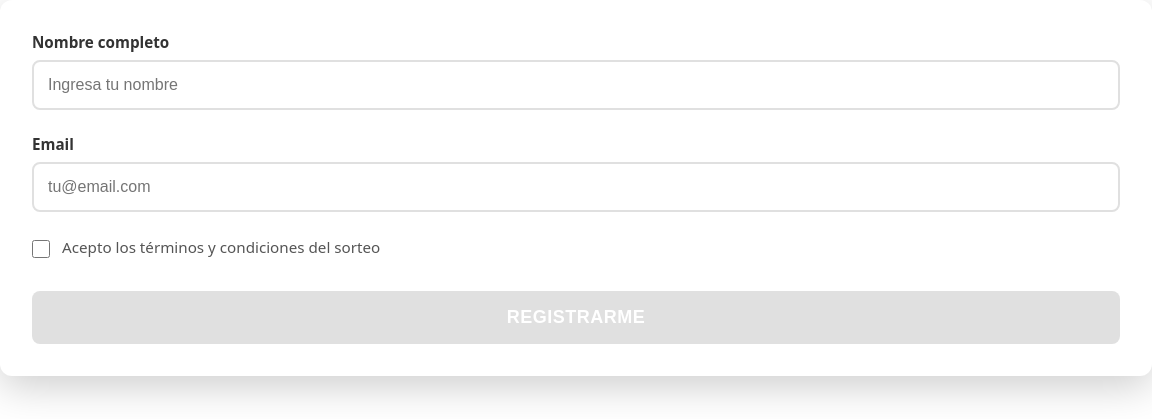
Test: RegistrationForm › limpia el formulario después de enviar
The image size is (1152, 419).
Type "Carlos López" into the field with id "name" at (576, 85), box [32,60,1120,110]
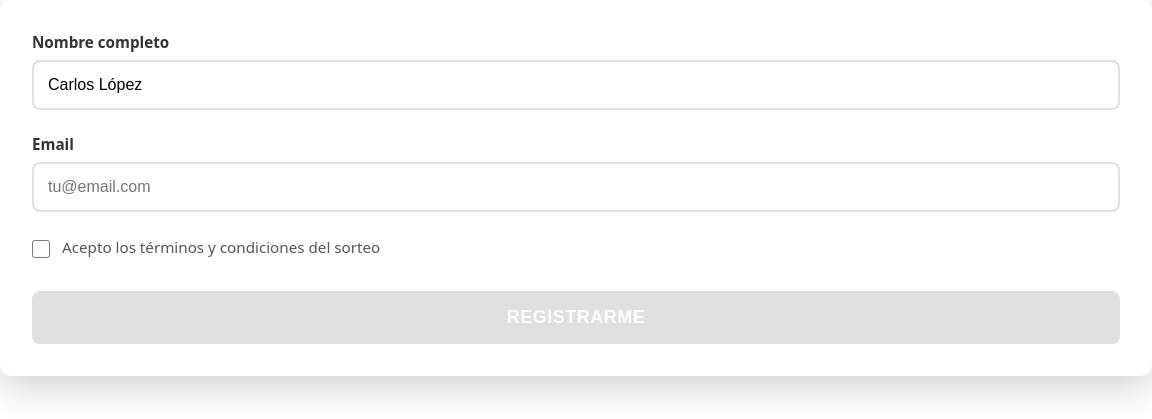
Type "carlos@example.com" into the field with id "email" at (576, 187), box [32,162,1120,212]
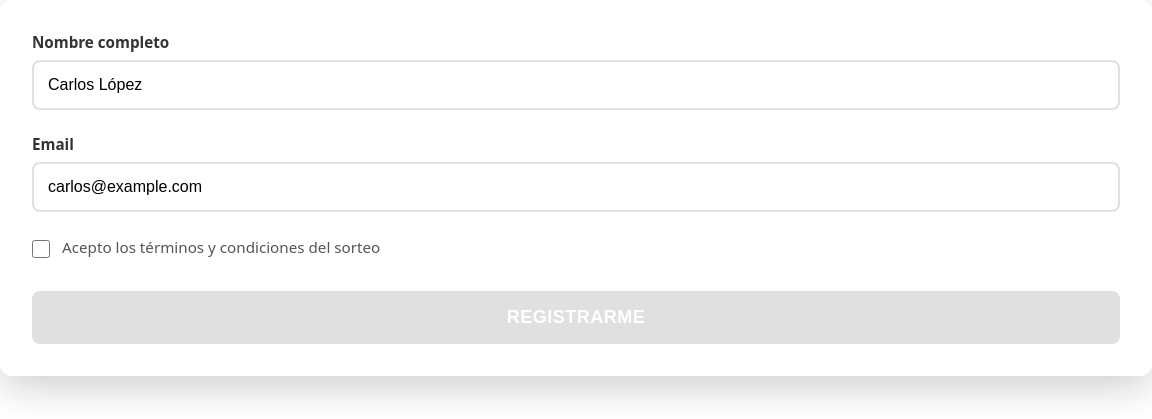
Click the checkbox with id "terms" at (41, 249), box [32,240,50,258]
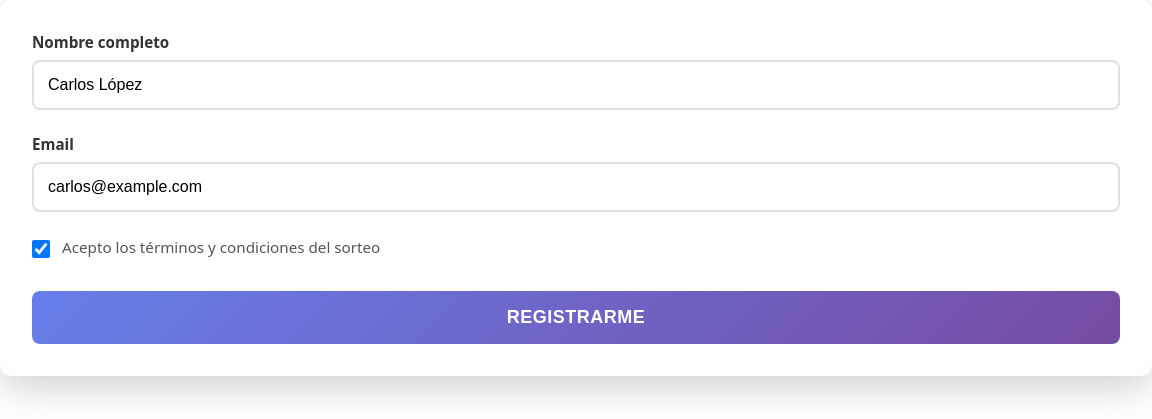
Submit the form
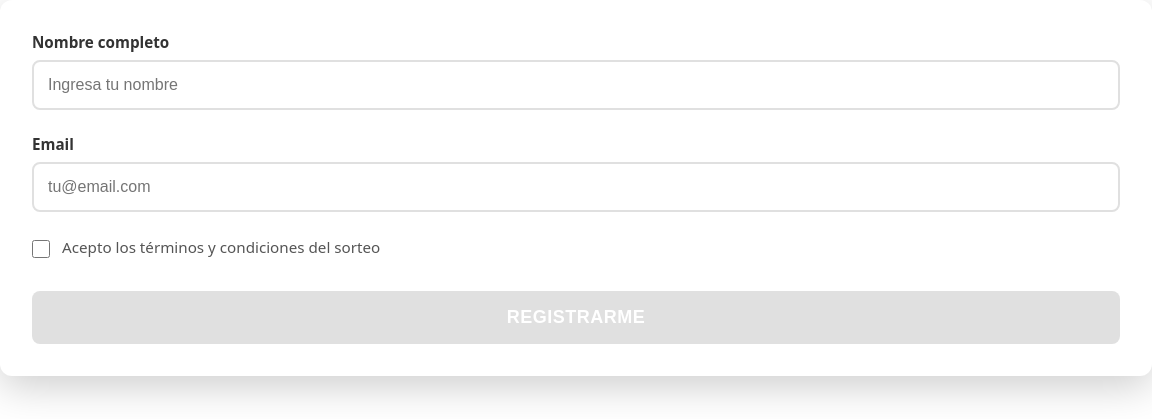
expect the checkbox with id "terms" is not checked: met, box [32,240,50,258]
expect the field with id "name" is empty: met, box [32,60,1120,110]
expect the field with id "email" is empty: met, box [32,162,1120,212]
